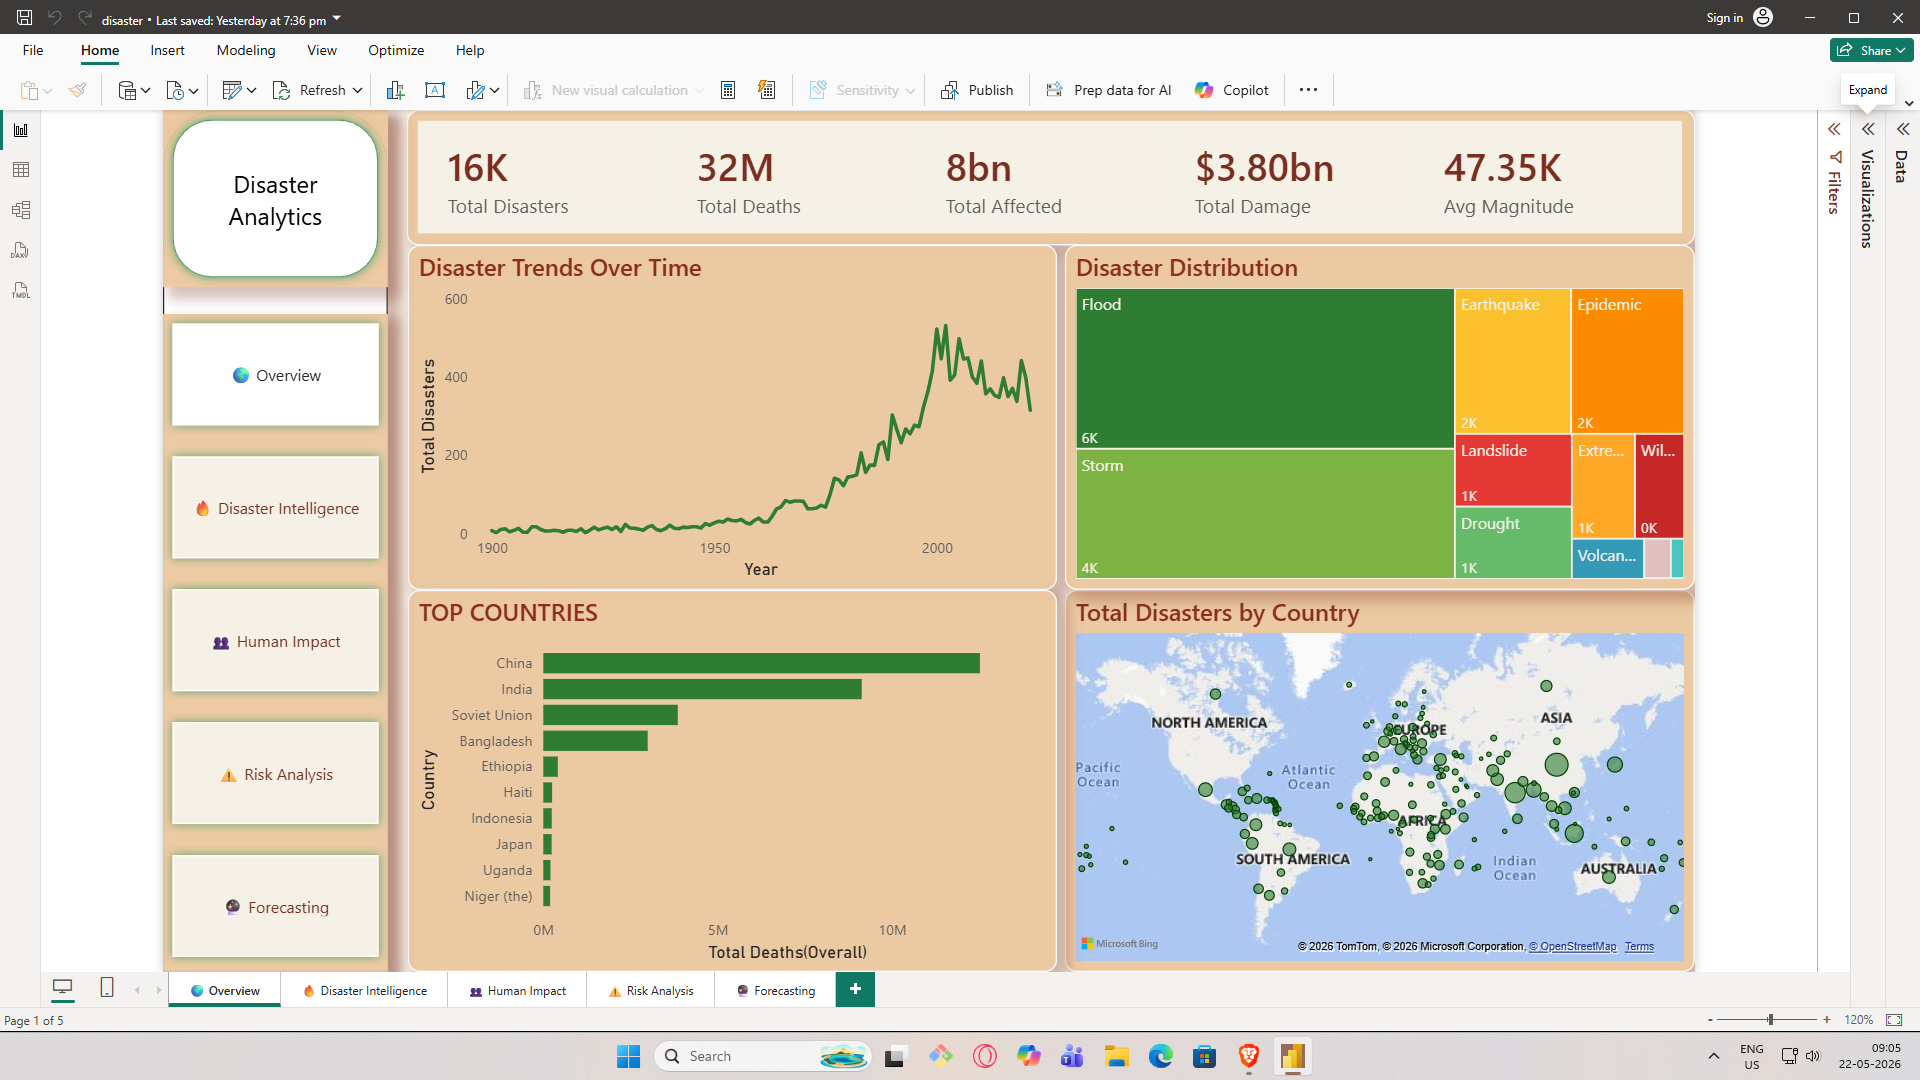

Layout of this report page (visuals, bound fields, positions):
{"tool":"powerbi","page":{"name":"🌍 Overview","canvas":[1280,720],"ordinal":0},"visuals":[{"type":"cardVisual","fields":{"Data":["Data.Total Disasters","Data.Total Deaths(Overall)","Data.Total Affected(Overall)","Data.Total Damage","Data.Avg Magnitude"]},"box":[203.9,0,1075.6,112.6],"z":0},{"type":"map","fields":{"Category":["Data.Country"],"Size":["Data.Total Disasters"]},"box":[753.8,400.7,526.2,319],"z":1000},{"type":"lineChart","title":"Disaster Trends Over Time","fields":{"Y":["Data.Total Disasters"],"Category":["Data.Year"]},"box":[204.3,112.8,541.8,287.9],"z":2000},{"type":"treemap","title":"Disaster Distribution","fields":{"Group":["Data.Disaster Type"],"Values":["Data.Total Disasters"]},"box":[753.8,112.8,526.2,287.9],"z":3000},{"type":"clusteredBarChart","title":"TOP COUNTRIES","fields":{"Category":["Data.Country"],"Y":["Data.Total Deaths(Overall)"]},"box":[204.3,400.7,541.8,319],"z":4000},{"type":"shape","box":[0,0,187.7,719.8],"z":5000},{"type":"shape","box":[0,0,187.7,147.8],"z":6000},{"type":"pageNavigator","box":[0,170.1,188.1,549.9],"z":7000}]}

Visuals, with their boxes on the page's 1280x720 design canvas (x1, y1, x2, y2). These are canvas units, not pixel positions in the 1920x1080 screenshot, which may show the page scaled, cropped or inside an application window:
cardVisual - Data.Total Disasters x Data.Total Deaths(Overall): l=204, t=0, r=1280, b=113
map - Data.Country x Data.Total Disasters: l=754, t=401, r=1280, b=720
"Disaster Trends Over Time" lineChart: l=204, t=113, r=746, b=401
"Disaster Distribution" treemap: l=754, t=113, r=1280, b=401
"TOP COUNTRIES" clusteredBarChart: l=204, t=401, r=746, b=720
shape: l=0, t=0, r=188, b=720
shape: l=0, t=0, r=188, b=148
pageNavigator: l=0, t=170, r=188, b=720
